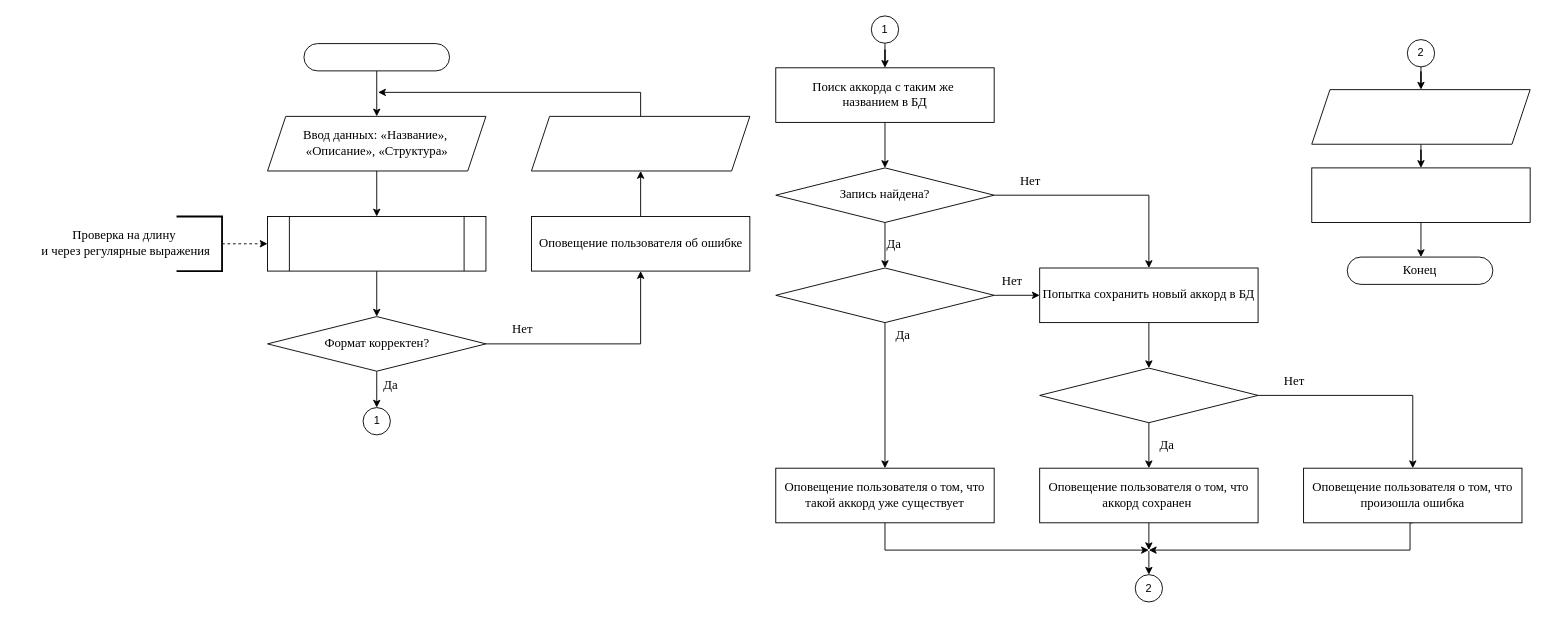
Image size: 1546x618. Some labels were removed from this diagram. Each missing label, with the centre of its shape:
Валидация введенных данных: the point at 376,243
Вывод сообщения об ошибке: the point at 640,143
Вывод сообщения с результатом: the point at 1420,116
Логирование результата: the point at 1420,194
Сохранение прошло успешно?: the point at 1148,395
Старт: the point at 376,57
Структуры аккордов совпа дают?: the point at 884,295
